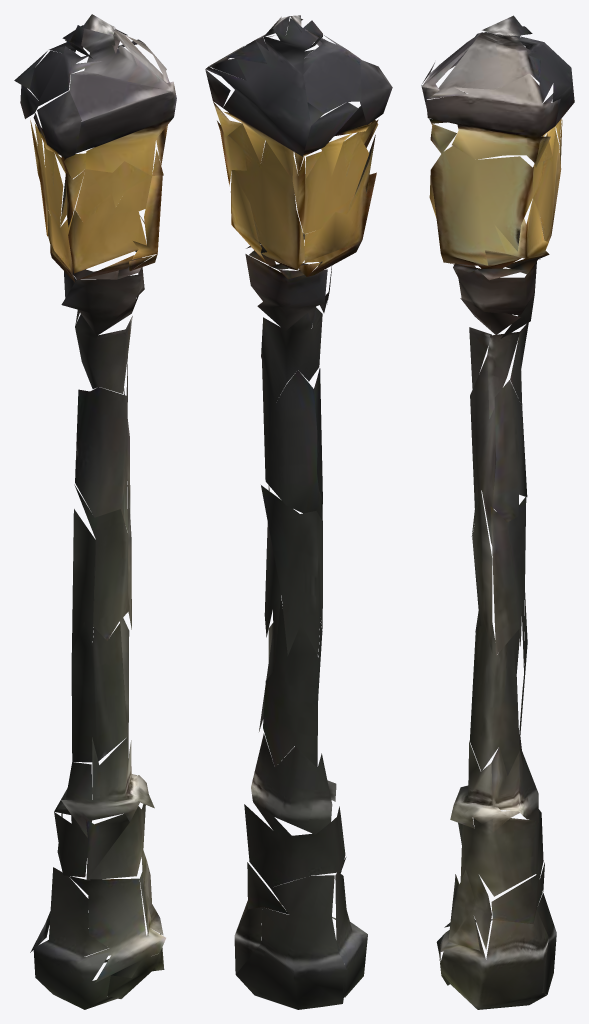
File: lamp.glb
The picture shows the model from 3 angles, left to right: view 1: azimuth 30°, elevation 25°; view 2: azimuth 150°, elevation 25°; view 3: azimuth 270°, elevation 25°; orthographic projection.
Parts seen in each view (by area): view 1: tripo_node_01a21c9d-16d5-73e2-bd35-681eb83067eb; view 2: tripo_node_01a21c9d-16d5-73e2-bd35-681eb83067eb; view 3: tripo_node_01a21c9d-16d5-73e2-bd35-681eb83067eb.
Part boxes in pixels (x1,y1,x2,y2): tripo_node_01a21c9d-16d5-73e2-bd35-681eb83067eb: (14,14,176,1009); tripo_node_01a21c9d-16d5-73e2-bd35-681eb83067eb: (205,15,392,1009); tripo_node_01a21c9d-16d5-73e2-bd35-681eb83067eb: (421,15,574,1009).
Bounding box in the file's own units: 0.528 × 3.6 × 0.5128.
1 material, 1 textured.
